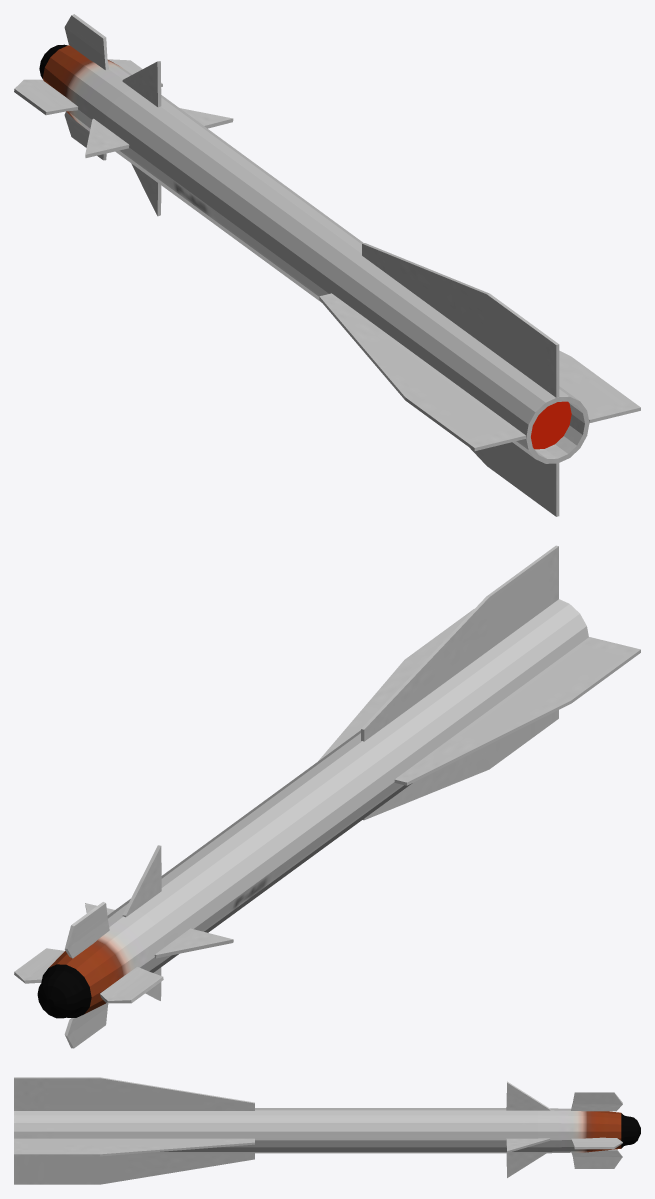
The model's file is aam_r60.glb.
3 views of the same model, one above another, from view 1: azimuth 30°, elevation 25°; view 2: azimuth 150°, elevation 25°; view 3: azimuth 270°, elevation 25° (orthographic). The views are drawn at different scales.
Parts seen in each view (by area): view 1: body|R60Mat, body|Rear; view 2: body|R60Mat, body|Seeker.001; view 3: body|R60Mat, body|Seeker.001.
Part boxes in pixels (x1,y1,x2,y2): body|R60Mat: (14,14,640,516); body|Rear: (531,401,571,449); body|R60Mat: (14,545,640,1048); body|Seeker.001: (37,964,91,1018); body|R60Mat: (14,1077,622,1184); body|Seeker.001: (621,1113,640,1148).
Size of the model in its own units: 0.4081 by 0.4028 by 2.15.
3 materials, 1 textured.
